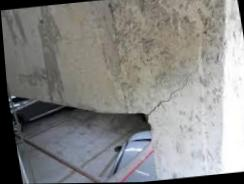crack: (145, 64, 197, 117)
